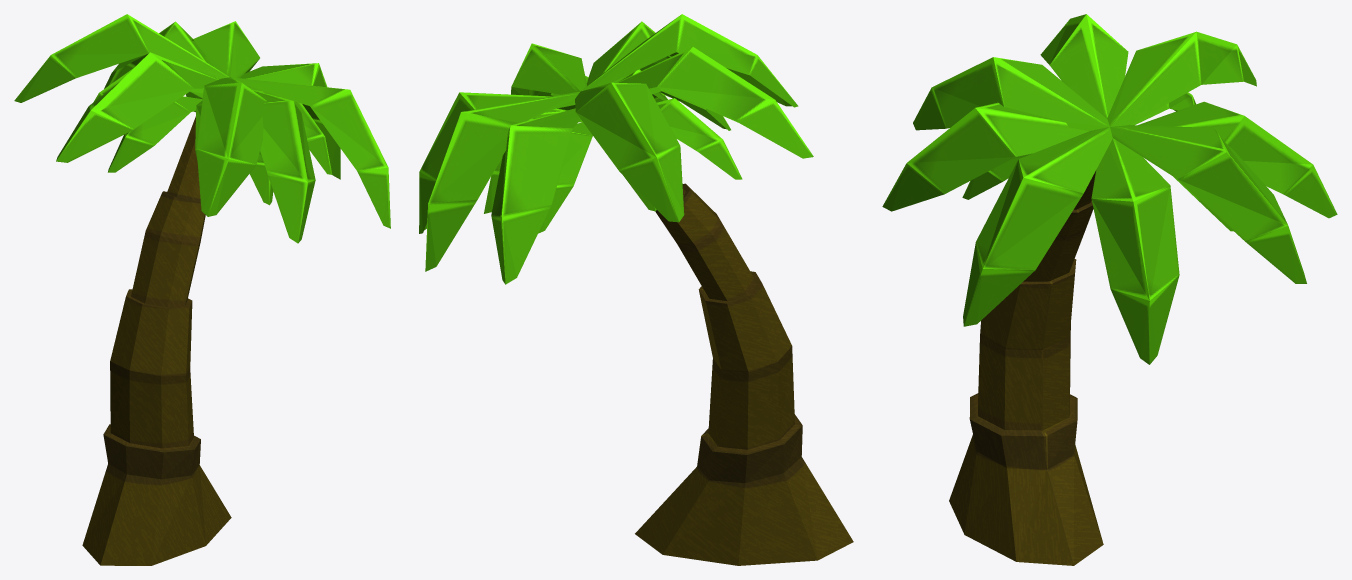
Rendered from palmera1_v2_tex.fbx.
3 views of the same model, side by side, from view 1: azimuth 30°, elevation 25°; view 2: azimuth 150°, elevation 25°; view 3: azimuth 270°, elevation 25° (orthographic). The views are drawn at different scales.
Visible parts, largest first — view 1: palmera1; view 2: palmera1; view 3: palmera1.
Part boxes in pixels (x1,y1,x2,y2): palmera1: (14, 14, 390, 565); palmera1: (419, 14, 853, 565); palmera1: (882, 14, 1337, 565).
Bounding box in the file's own units: 405 × 551 × 438.
2 materials, 2 textured.
